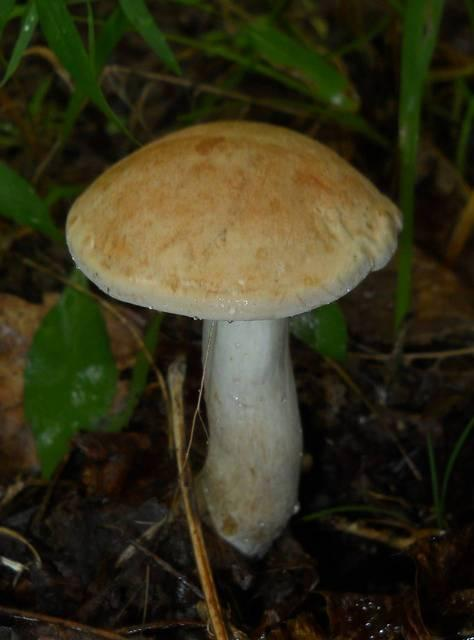edible_mushroom: (63, 118, 404, 560)
